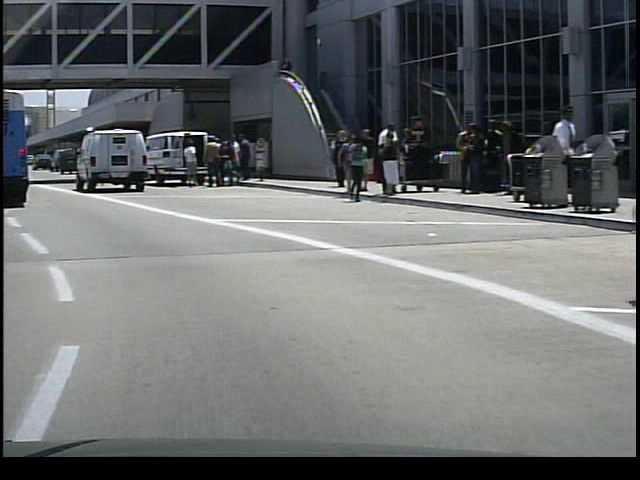person: (540, 105, 573, 211), (372, 122, 402, 197), (373, 132, 398, 199), (198, 137, 223, 190), (231, 132, 253, 182), (178, 136, 197, 190)
